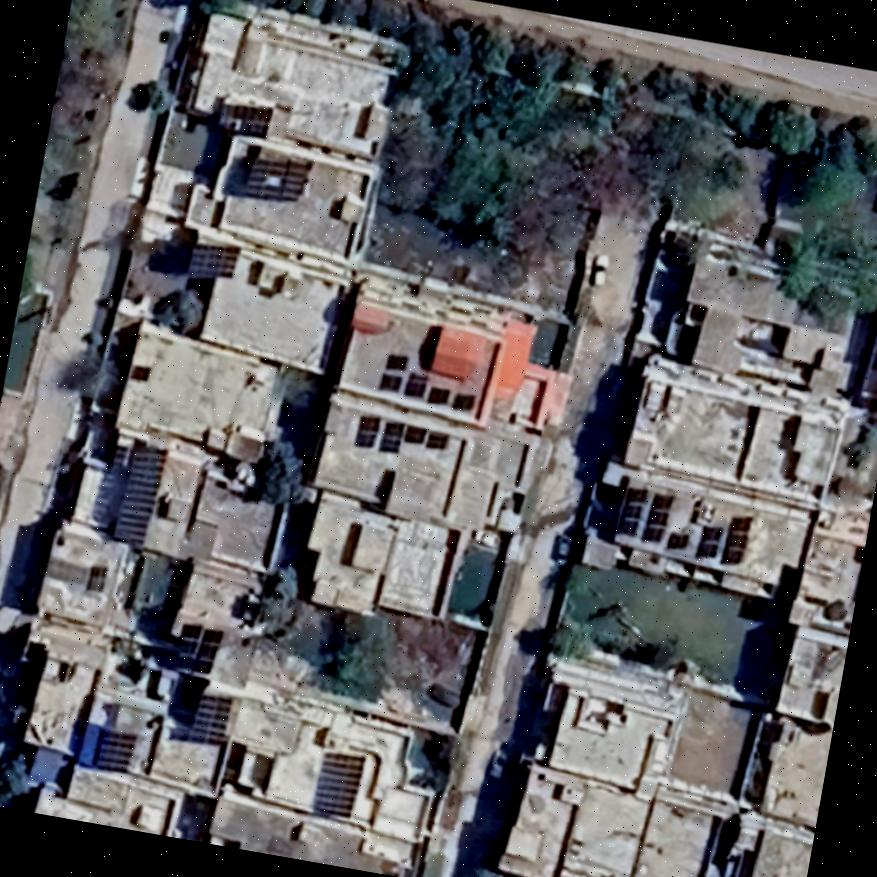Solarpanel: (104, 432, 172, 555), (304, 741, 369, 828), (234, 144, 316, 212), (609, 478, 679, 550), (369, 345, 436, 405), (167, 616, 227, 680), (180, 686, 237, 753), (180, 233, 243, 289), (86, 721, 142, 780), (214, 93, 277, 144), (634, 484, 678, 550), (714, 508, 756, 572), (610, 478, 652, 542), (372, 346, 414, 396), (688, 516, 726, 566)
